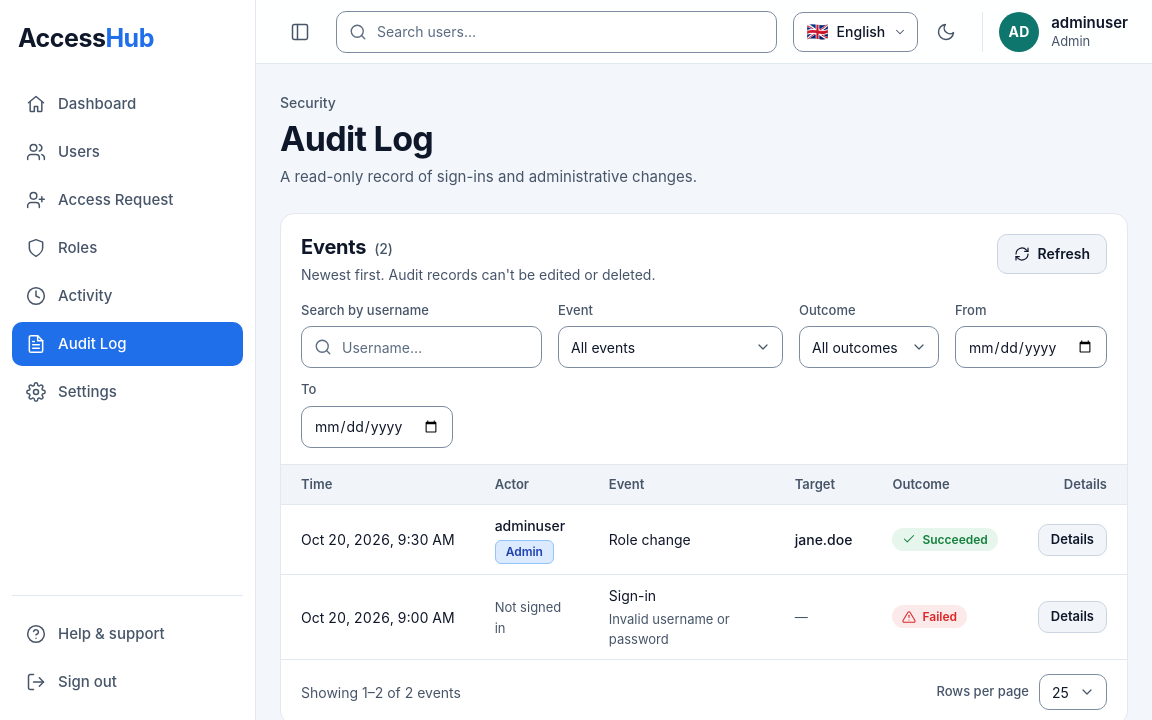
Test: Audit Log contents › shows every recorded field in an accessible details dialog
Click the button with aria-label "View details for event 12". click: (1072, 540)
box: [1038,524,1107,556]
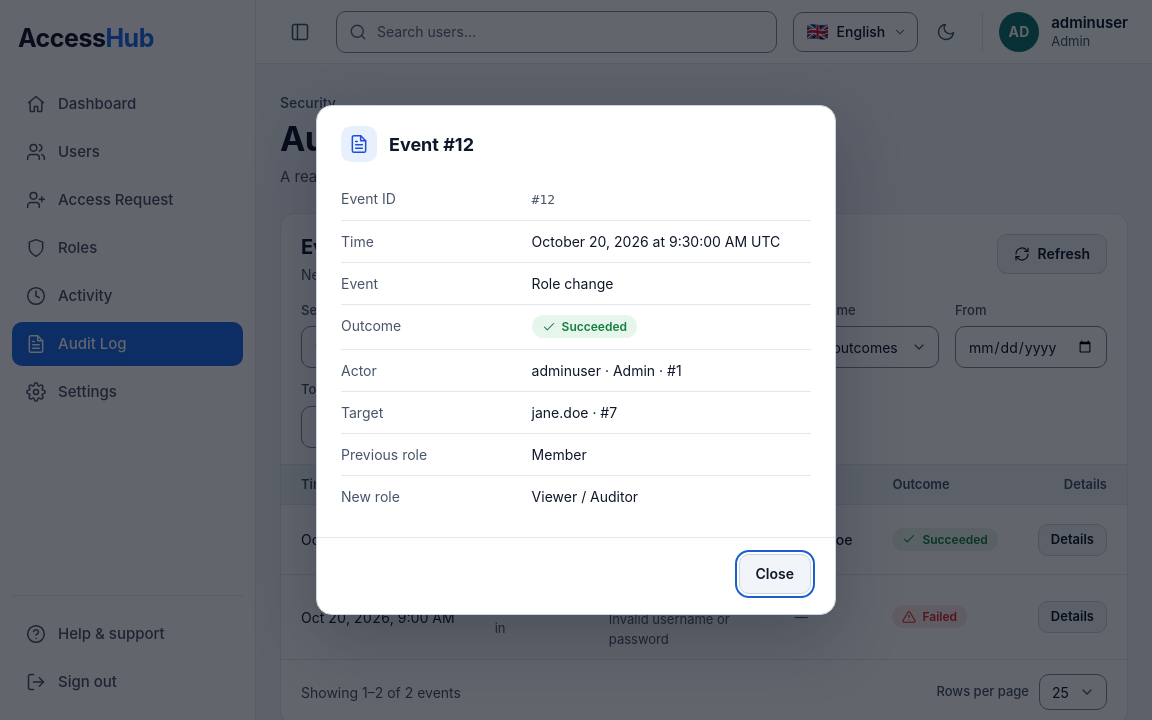
Expected: the text "adminuser · Admin · #1" is shown, [532,362,682,378]
Expected: the text "jane.doe · #7" is shown, [532,404,617,420]
Expected: the text "Member" is shown, [532,446,587,462]
Click the button "Close". click: (775, 574)
box: [738,554,811,594]
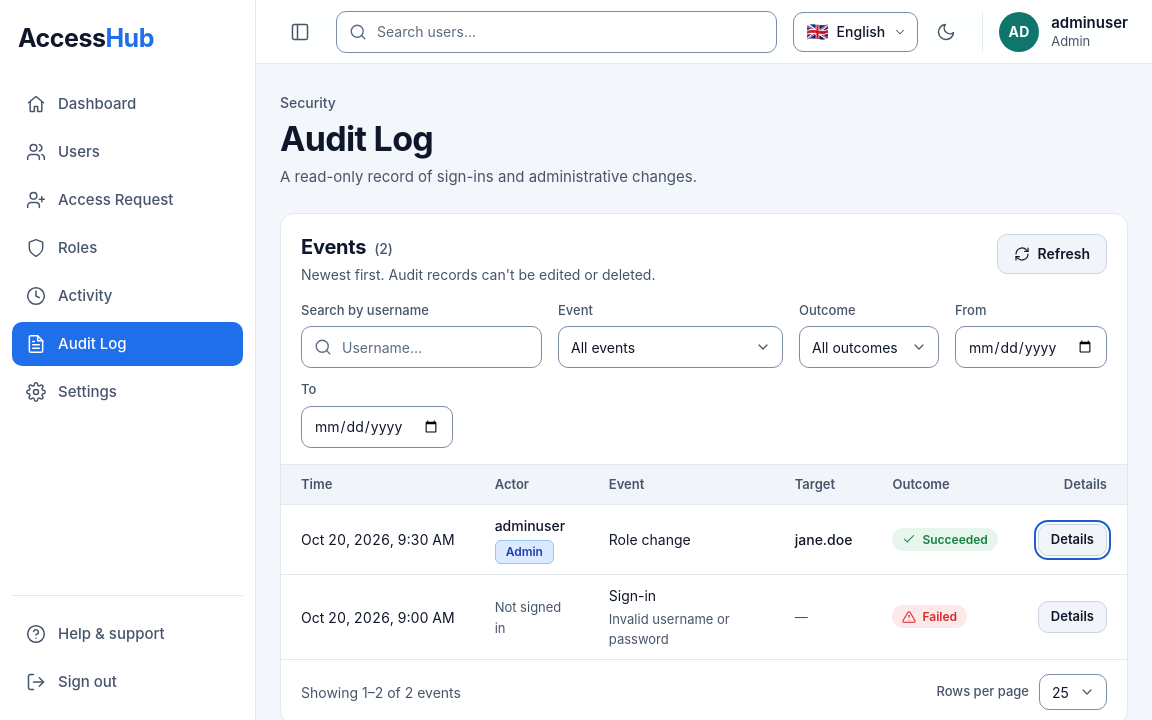
Expected: the dialog is gone
